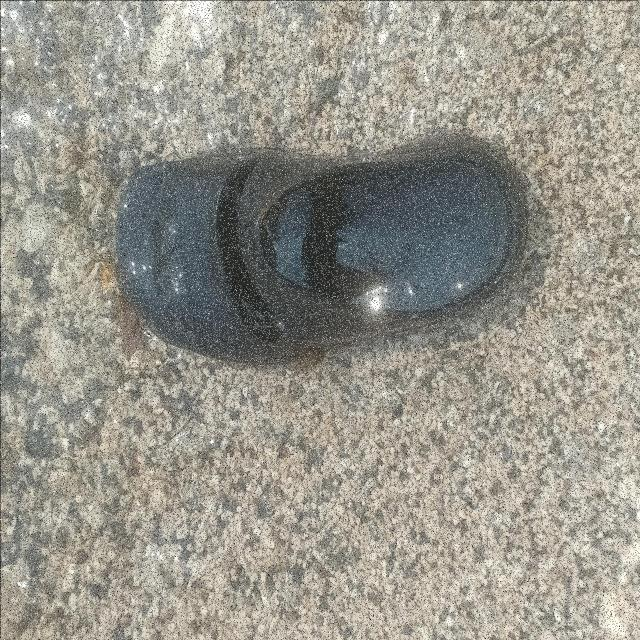rubber_waste: (115, 143, 529, 365)
